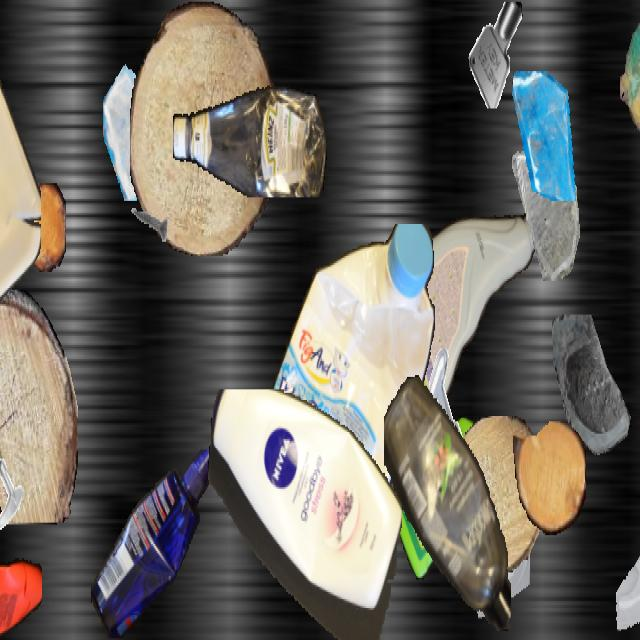glass: (549, 314, 640, 482), (103, 51, 187, 201), (509, 149, 583, 281), (509, 71, 581, 199), (271, 354, 333, 464), (473, 517, 529, 617), (615, 526, 640, 636)
metal: (417, 345, 479, 455), (467, 2, 527, 108), (128, 188, 168, 260), (0, 455, 27, 533)
plastic: (252, 224, 438, 590), (206, 390, 402, 638), (364, 203, 538, 430), (384, 372, 510, 638), (90, 450, 220, 638), (173, 76, 327, 198), (390, 416, 500, 580), (0, 2, 40, 340), (0, 471, 41, 638)
wood: (130, 2, 274, 254), (0, 290, 77, 524), (447, 416, 545, 572), (513, 421, 585, 535), (23, 183, 65, 272), (620, 2, 640, 144)
